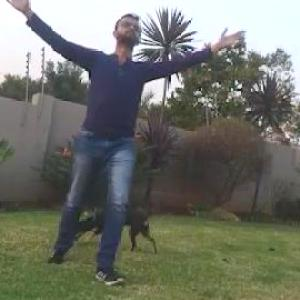takeoff: (4, 19, 214, 255)
